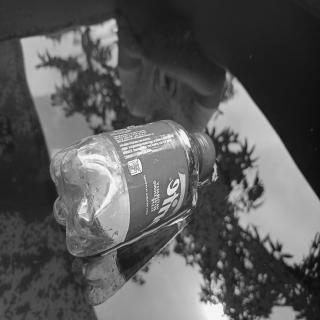bottle: (48, 117, 215, 258)
